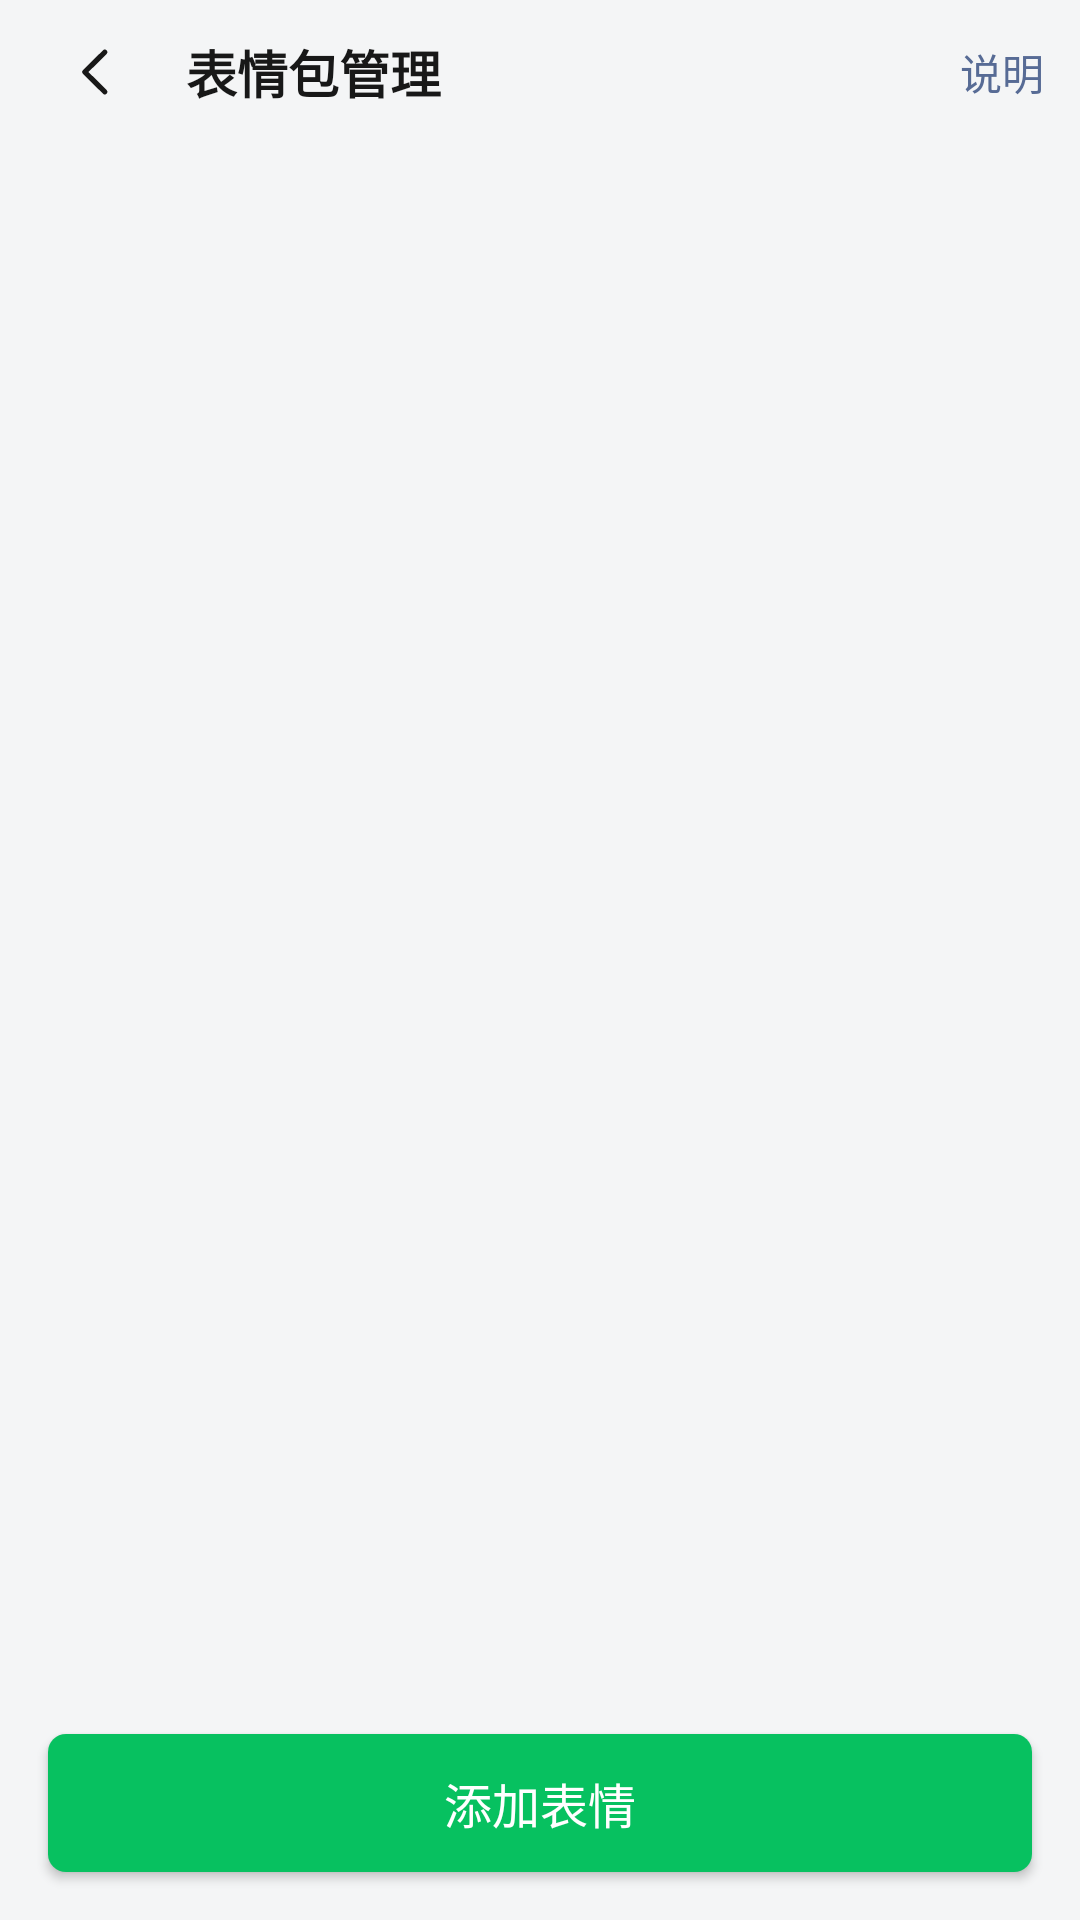

Named icons in this screenshot (1080 × 1920) and their centers, point (x, y):
返回: point (95, 72)
